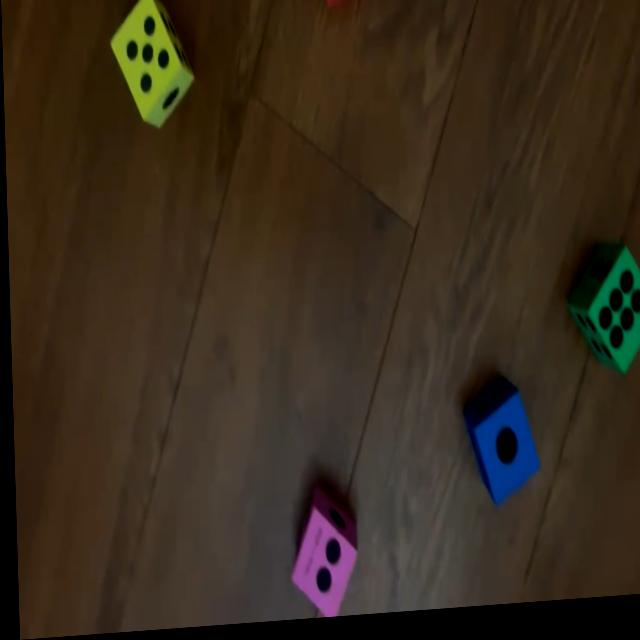blue_block: (463, 384, 536, 513)
red_block: (321, 0, 370, 11)
